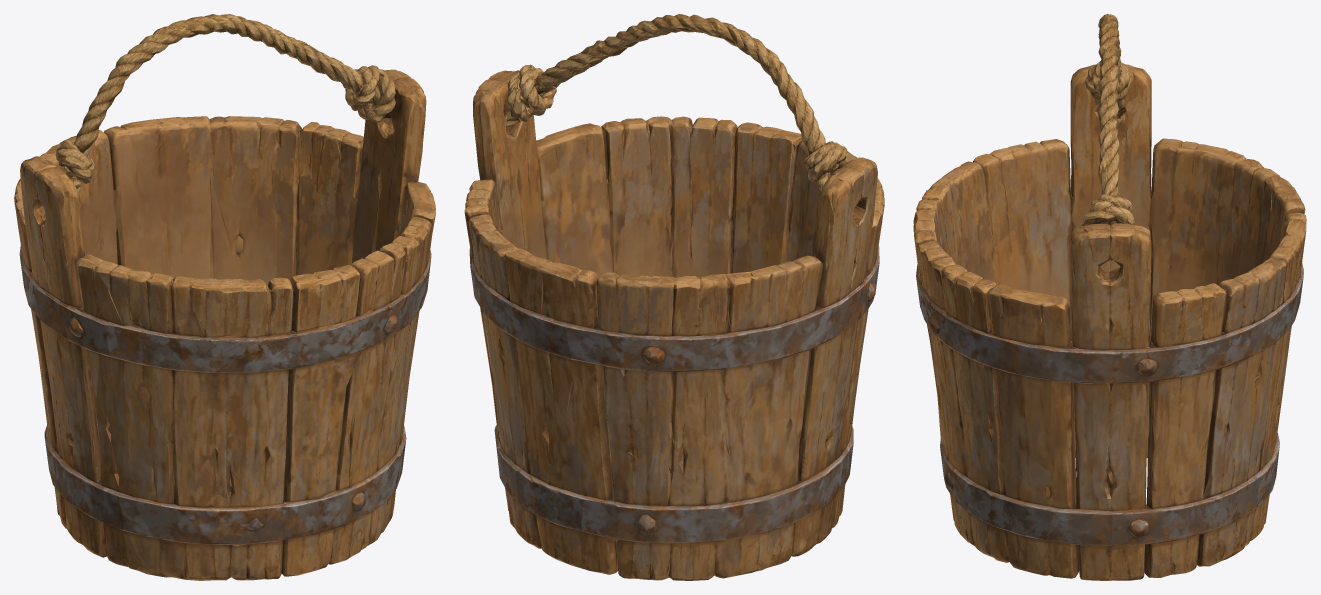
The model's file is bucket.glb.
3 views of the same model, side by side, from view 1: azimuth 30°, elevation 25°; view 2: azimuth 150°, elevation 25°; view 3: azimuth 270°, elevation 25° (orthographic). The views are drawn at different scales.
Bounding box in the file's own units: 1.49 × 1.9 × 1.43.
Materials: 1 (1 with a texture image).
